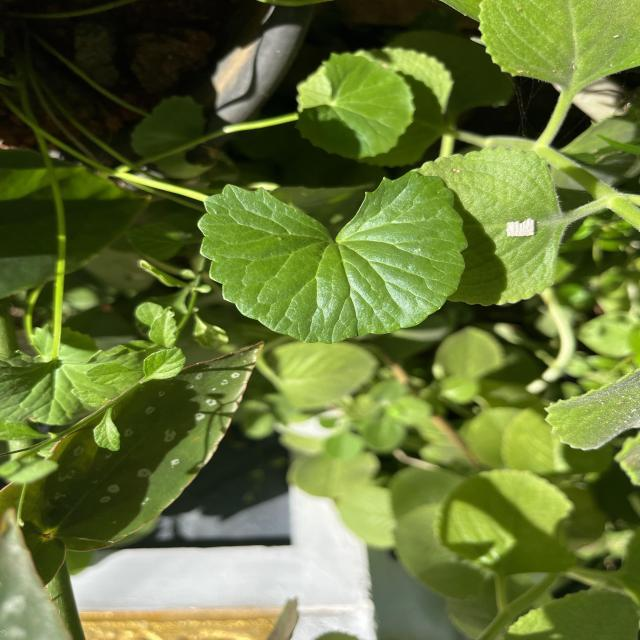Centella asiatica: (193, 168, 470, 348)
